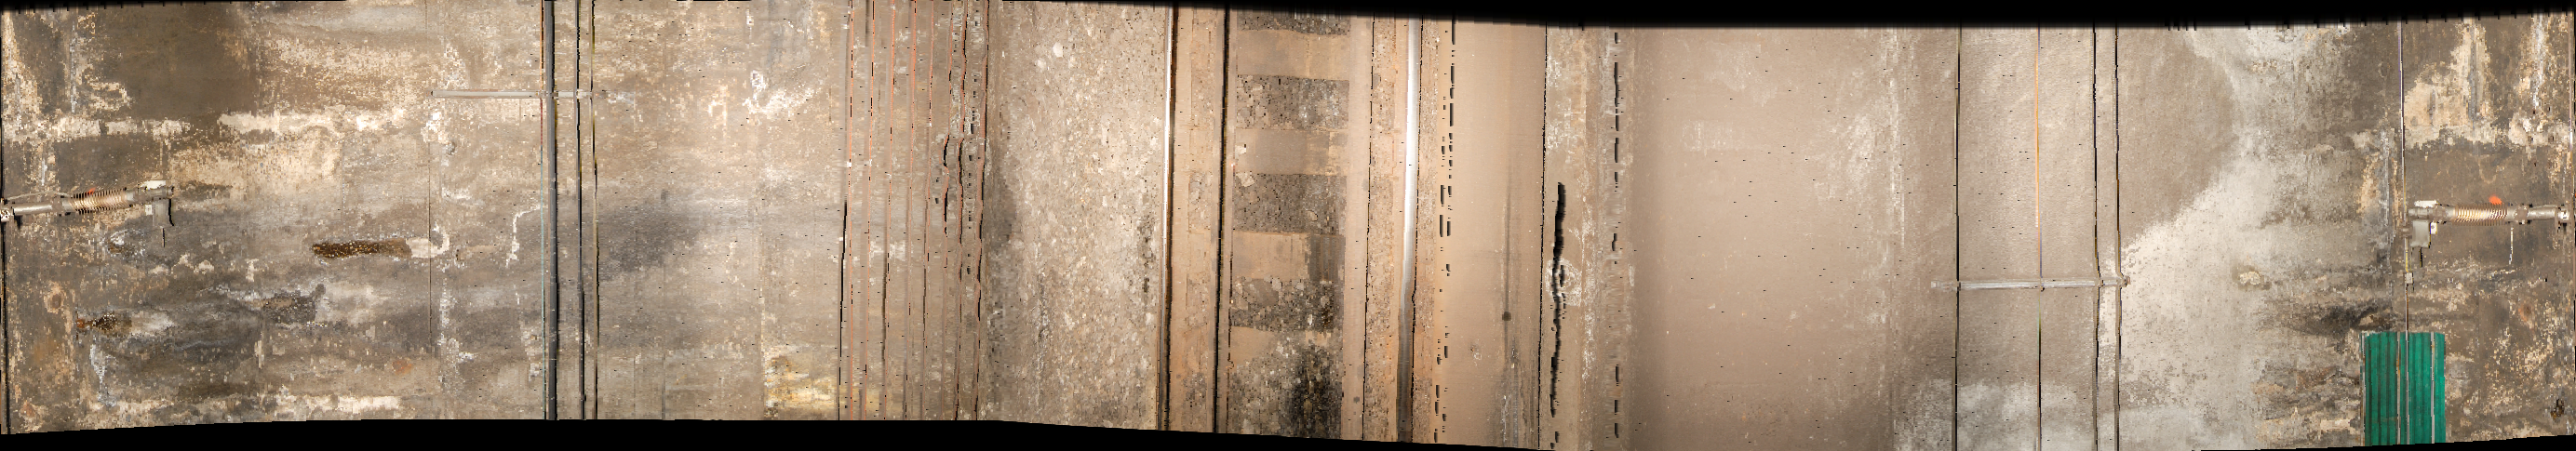green cables: (2361, 326, 2440, 451)
pipes: (841, 2, 1005, 451), (532, 2, 614, 451), (2083, 38, 2134, 436), (1948, 38, 1971, 451), (2026, 30, 2045, 451), (2394, 18, 2417, 366), (2417, 198, 2576, 239), (1925, 276, 2134, 294)
tracks: (1168, 10, 1451, 449)
